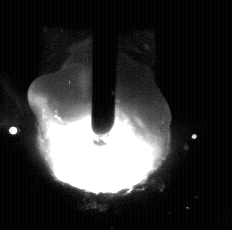arame: (92, 0, 116, 134)
poca: (35, 0, 170, 230)
